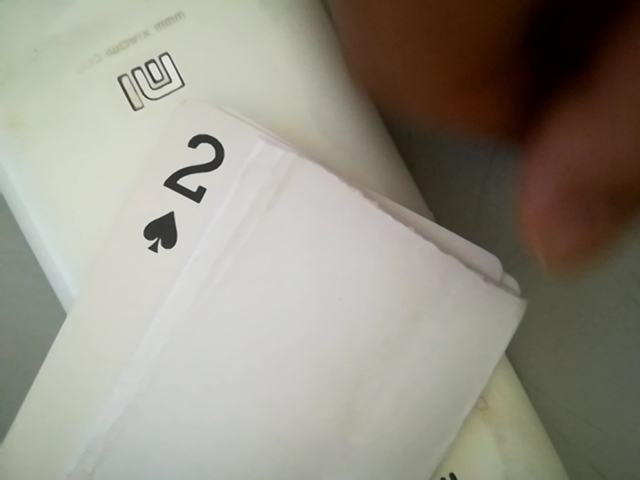ht 2: (125, 120, 262, 260)
